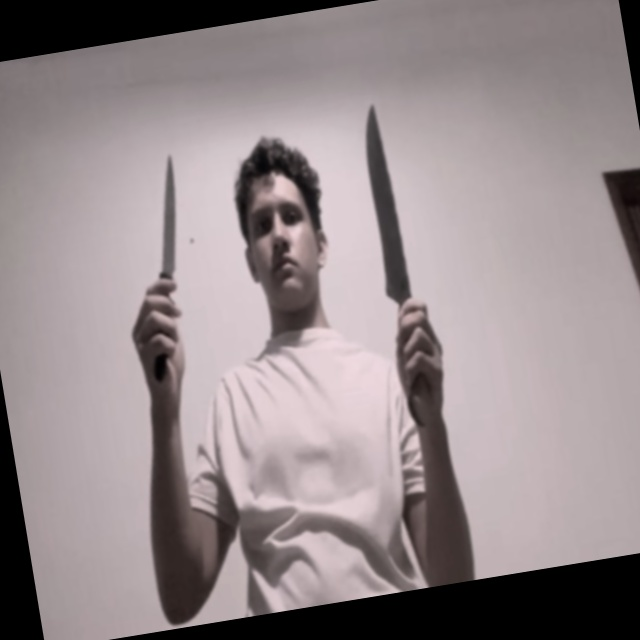Sharp-Object: (356, 101, 415, 305), (145, 153, 191, 274)
